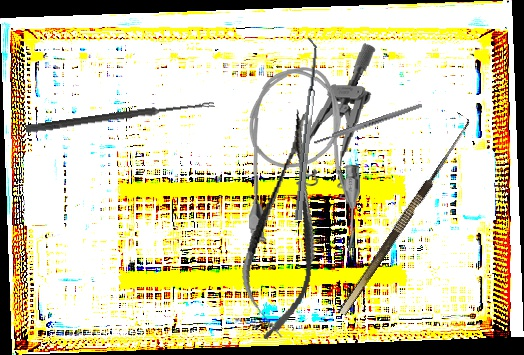Cannula: (243, 65, 363, 255)
Hook Surgical: (327, 111, 476, 317)
Micro Scissor: (231, 104, 341, 346)
Scalpel Handle: (313, 102, 423, 146)
Spatula Surgical: (287, 37, 321, 221)
Speculum: (293, 38, 377, 207)
Surgical Spoon: (25, 98, 215, 135)
